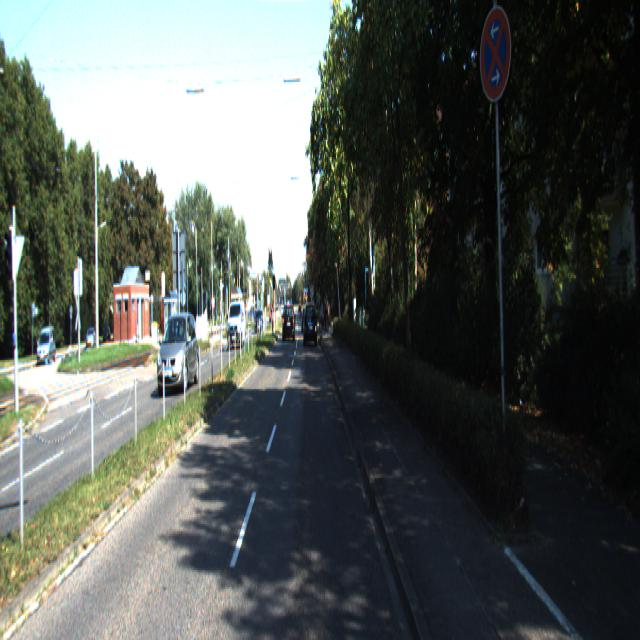Car: (157, 311, 200, 399), (228, 301, 247, 349), (304, 302, 318, 348), (283, 304, 295, 343)
